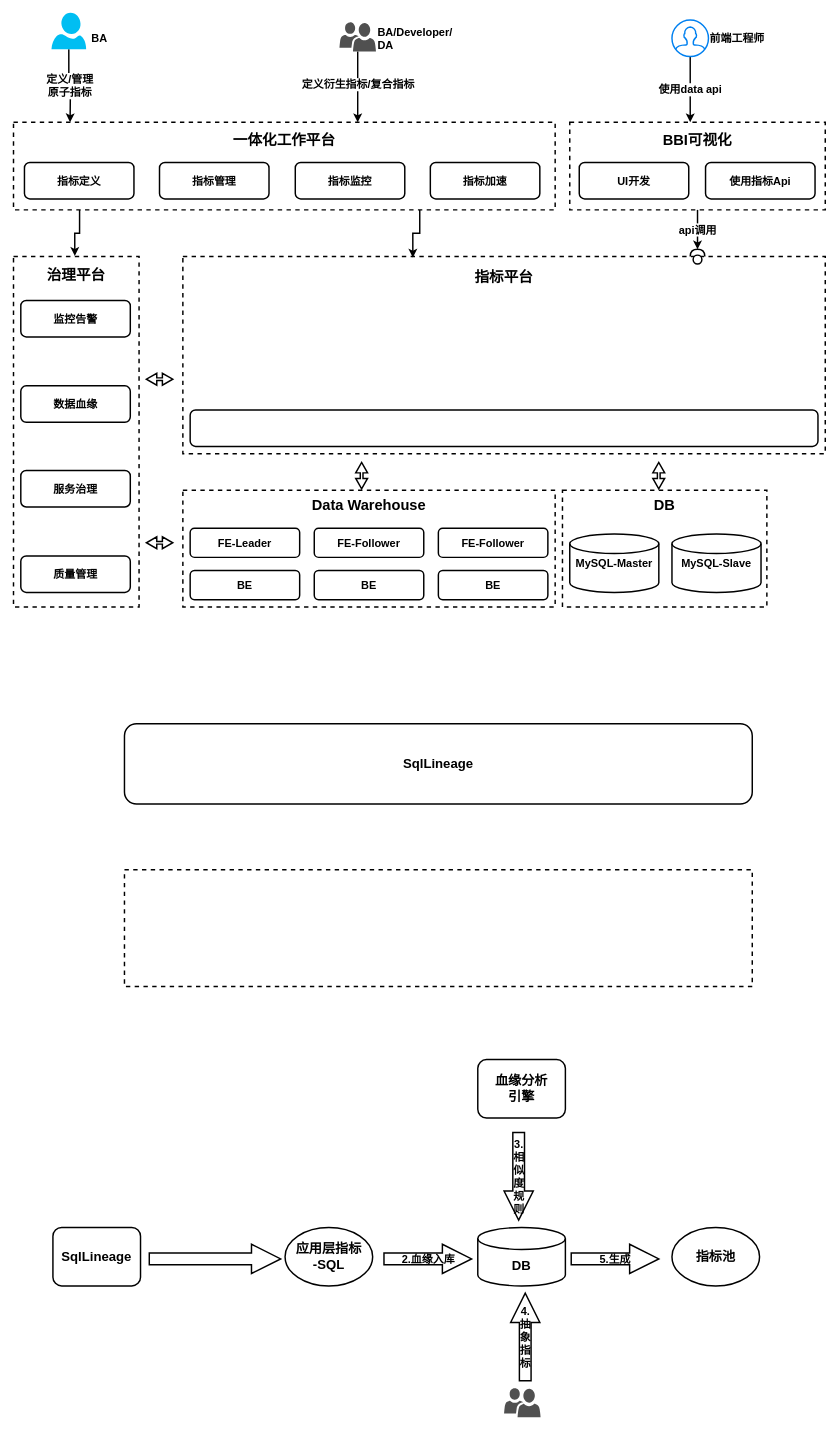
This 838x1448 diagram has some shape labels left out. Each missing label, with the centre of its shape:
"1.解析租户/行业/全域" goes at point 214,1258.
"Data Analyst" goes at point 522,1402.
"Database" goes at point 438,928.
"语义引擎" goes at point 503,428.
